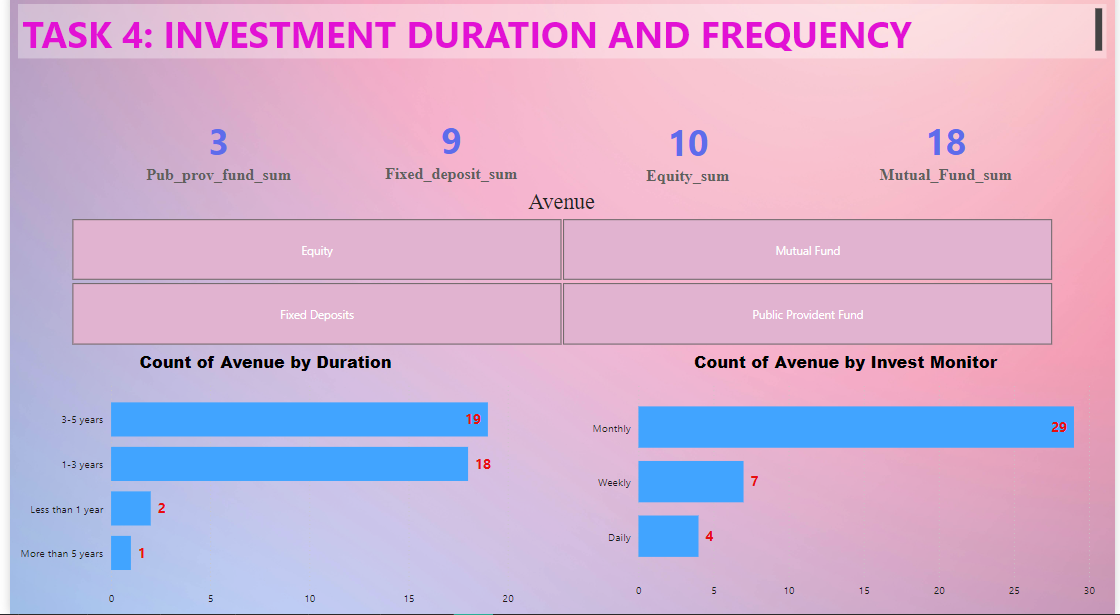

The dashboard page shown, as its layout file describes it:
{"tool":"powerbi","page":{"name":"Task 4","canvas":[1280,720],"ordinal":3},"visuals":[{"type":"textbox","box":[9.6,13.7,1259.7,63.1],"z":0},{"type":"clusteredBarChart","fields":{"Category":["Data_set 2.Duration"],"Y":["CountNonNull(Data_set 2.Avenue)"]},"box":[0,414.4,591.4,306],"z":1000},{"type":"clusteredBarChart","title":"Count of Avenue by Invest Monitor","fields":{"Y":["CountNonNull(Data_set 2.Avenue)"],"Category":["Data_set 2.Invest_Monitor"]},"box":[664.2,414.4,605.1,296.4],"z":2000},{"type":"slicer","title":"Avenue","fields":{"Values":["Data_set 2.Avenue"]},"box":[46.7,227.8,1184.2,186.6],"z":3000},{"type":"card","fields":{"Values":["Data_set 2.Fixed_deposit_sum"]},"box":[395.2,120.8,231.9,122.1],"z":4000},{"type":"card","fields":{"Values":["Data_set 2.Pub_prov_fund_sum"]},"box":[133.1,126.2,216.8,112.5],"z":5000},{"type":"card","fields":{"Values":["Data_set 2.Mutual_Fund_sum"]},"box":[967.4,124.9,230.5,113.9],"z":6000},{"type":"card","fields":{"Values":["Data_set 2.Euity_sum"]},"box":[664.2,122.1,240.1,122.1],"z":7000}]}

Visuals, with their boxes in screenshot pixels (x1, y1, x2, y2), scaled from the page's 1280x720 canvas onto the 1120x615 screenshot:
textbox: bbox=(8, 12, 1111, 66)
clusteredBarChart - Data_set 2.Duration x CountNonNull(Data_set 2.Avenue): bbox=(0, 354, 517, 614)
"Count of Avenue by Invest Monitor" clusteredBarChart: bbox=(581, 354, 1111, 607)
"Avenue" slicer: bbox=(41, 195, 1077, 354)
card - Data_set 2.Fixed_deposit_sum: bbox=(346, 103, 549, 207)
card - Data_set 2.Pub_prov_fund_sum: bbox=(116, 108, 306, 204)
card - Data_set 2.Mutual_Fund_sum: bbox=(846, 107, 1048, 204)
card - Data_set 2.Euity_sum: bbox=(581, 104, 791, 209)
